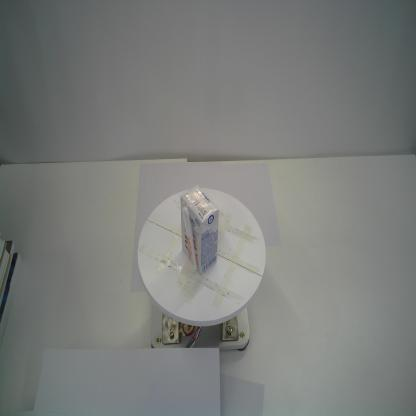Milk: (180, 184, 219, 276)
